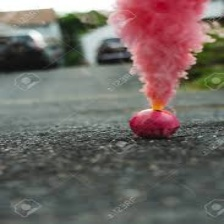smoke: (107, 1, 209, 105)
